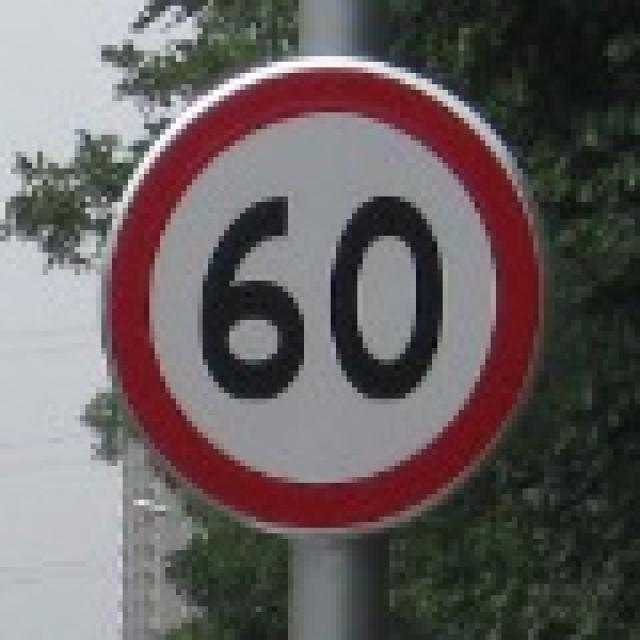Speed Limit -60-: (197, 189, 448, 407)
